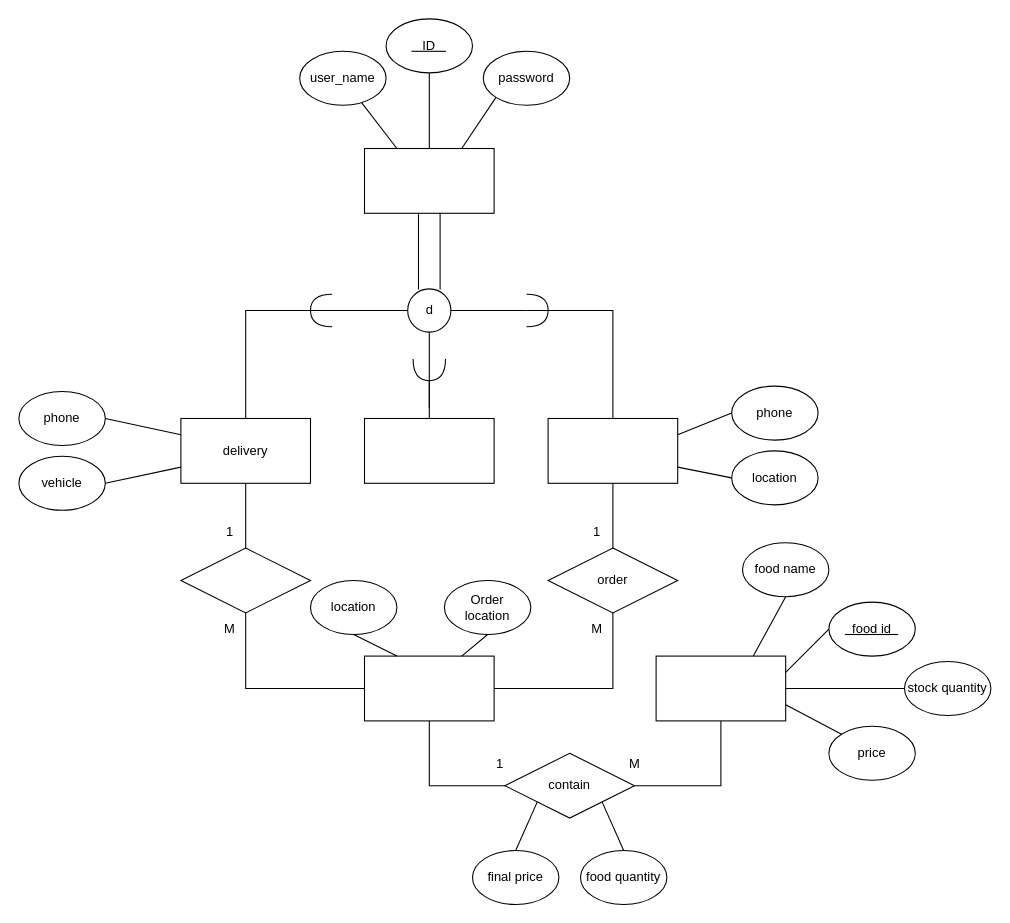
This 1010x923 diagram has some shape labels left out. Each missing label, with the centre of its shape:
"admin" goes at (x=428, y=450).
"customer" goes at (x=612, y=450).
"deliver" goes at (x=245, y=580).
"Food" goes at (x=720, y=688).
"Food order" goes at (x=428, y=688).
"user" goes at (x=428, y=180).
